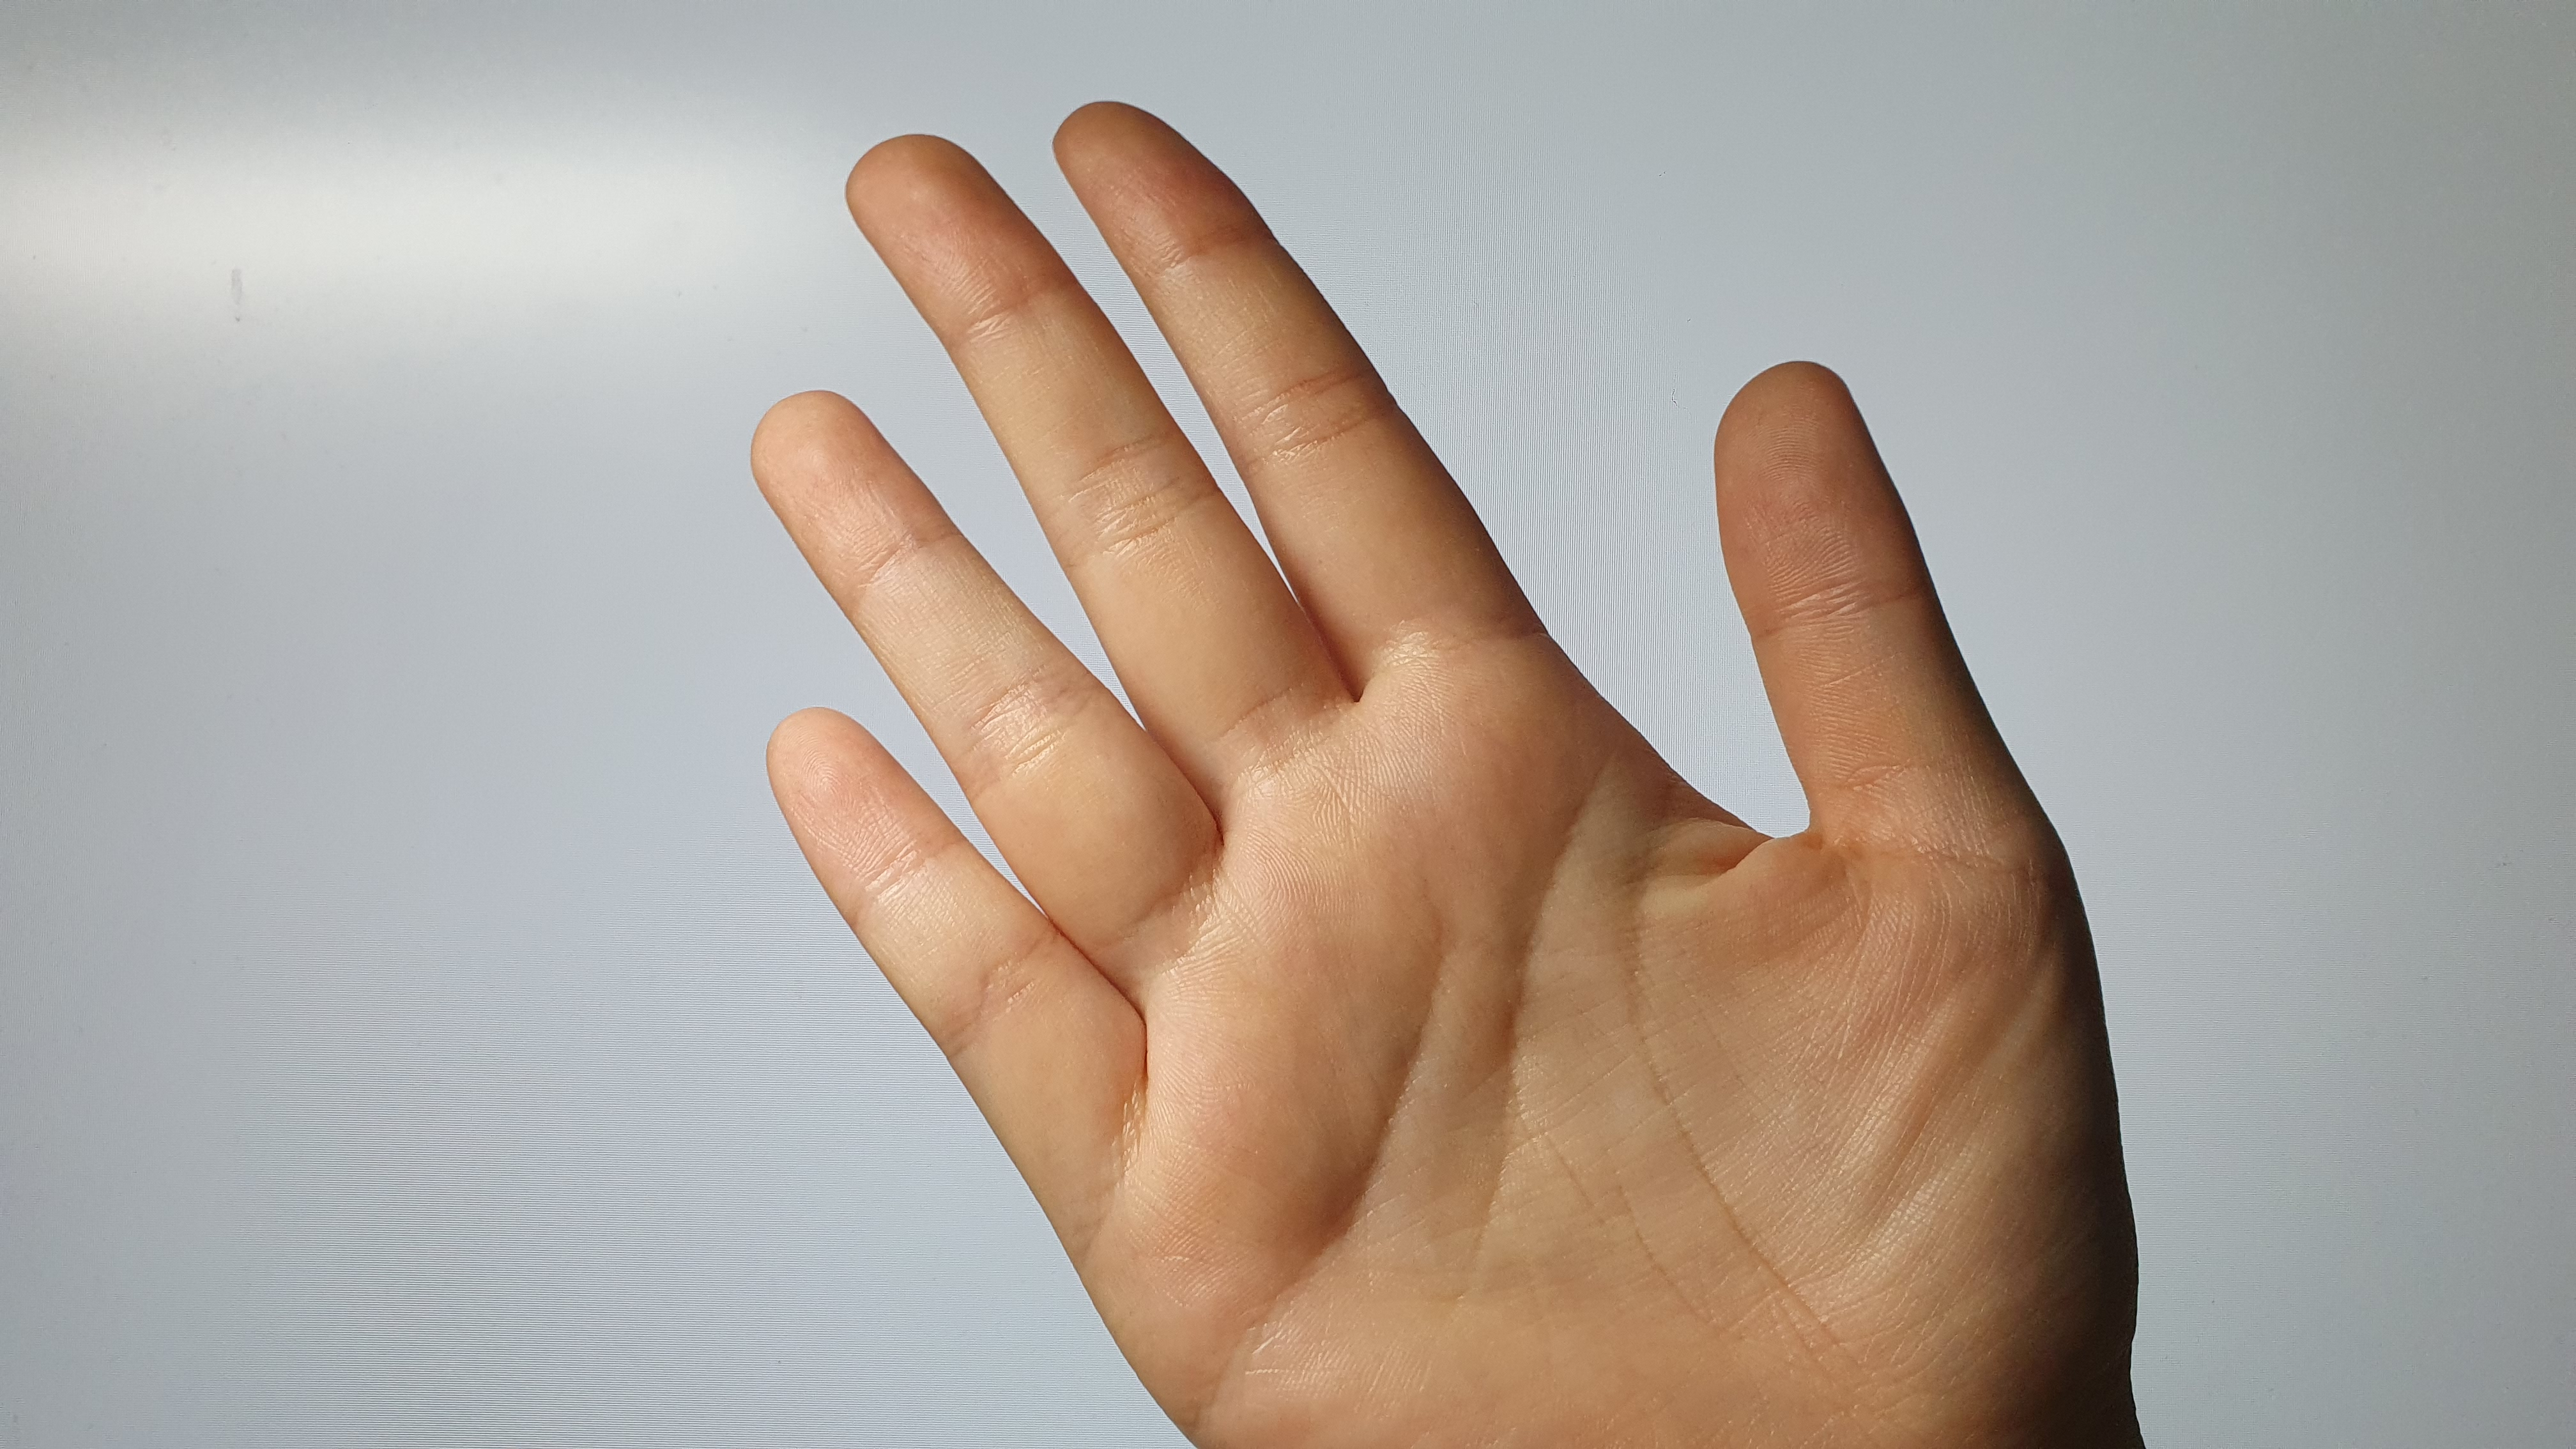hand: (729, 87, 2158, 1449)
index finger: (1049, 99, 1536, 690)
middle finger: (837, 124, 1350, 775)
palm: (1108, 699, 1969, 1449)
pinky: (757, 699, 1143, 1265)
ring finger: (738, 379, 1226, 961)
thumb: (1697, 357, 2086, 878)
